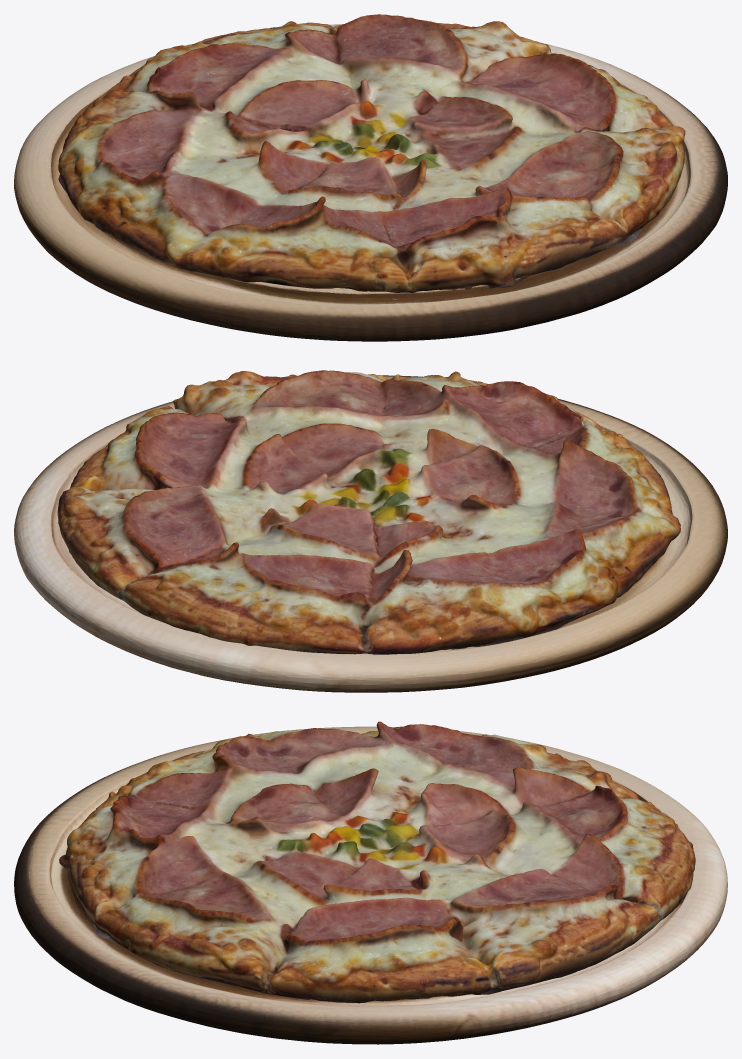
File: esmesho.glb
3 views of the same model, one above another, from view 1: azimuth 30°, elevation 25°; view 2: azimuth 150°, elevation 25°; view 3: azimuth 270°, elevation 25° (orthographic).
Visible parts, largest first — view 1: 3DModel, world.004; view 2: 3DModel, world.004; view 3: 3DModel, world.004.
Part boxes in pixels (x1,y1,x2,y2): 3DModel: (58, 14, 685, 292); world.004: (14, 24, 727, 341); 3DModel: (57, 370, 680, 654); world.004: (14, 375, 727, 692); 3DModel: (59, 721, 695, 1003); world.004: (14, 726, 727, 1044).
Size of the model in its own units: 0.4784 by 0.0627 by 0.4784.
2 materials, 2 textured.
